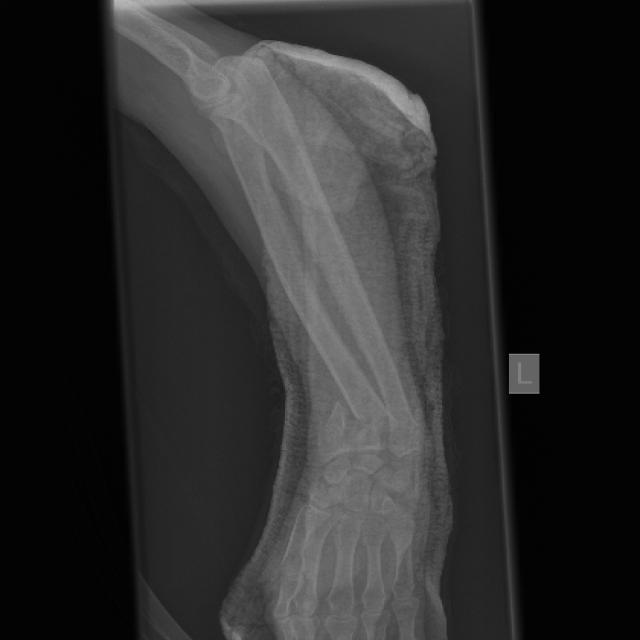forearm fracture: (299, 374, 389, 448)
